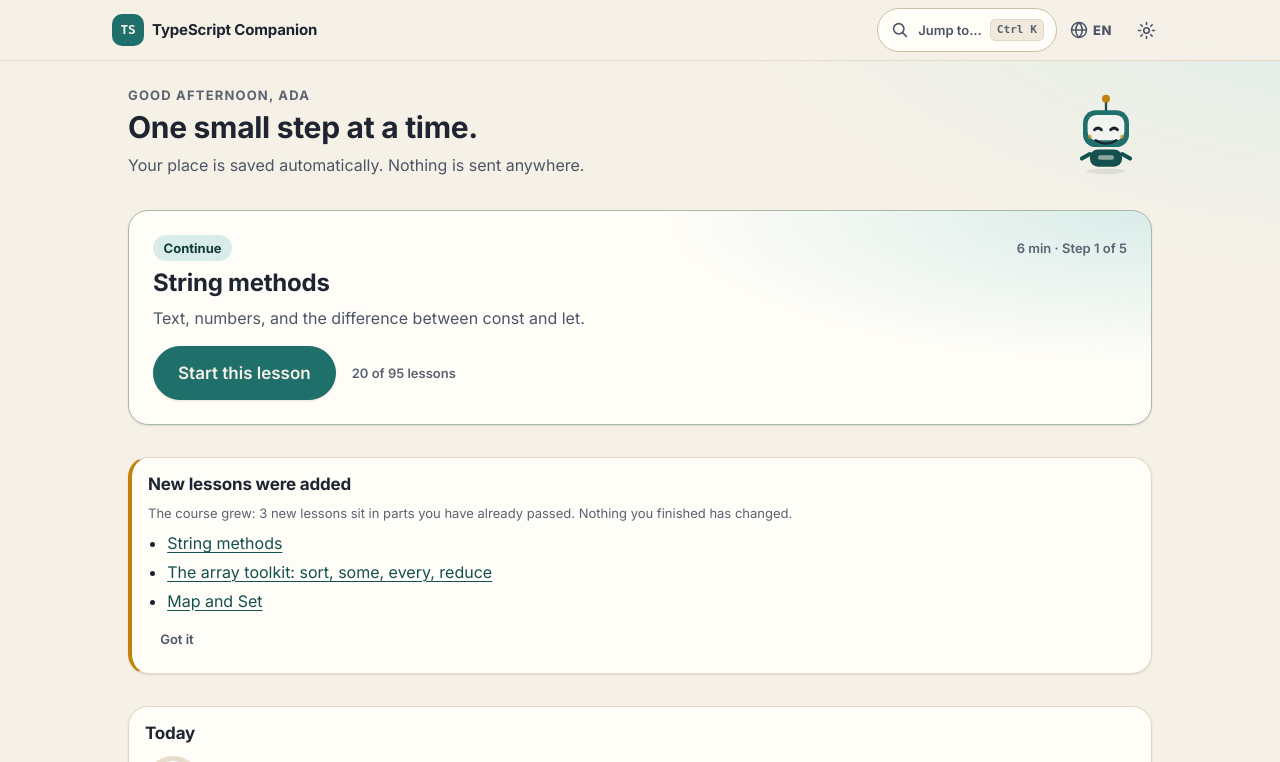
lessons added to a course the learner already passed › Home says so once, with links, until dismissed
Click the button "Got it".
click(177, 639)  # box [148, 621, 206, 657]
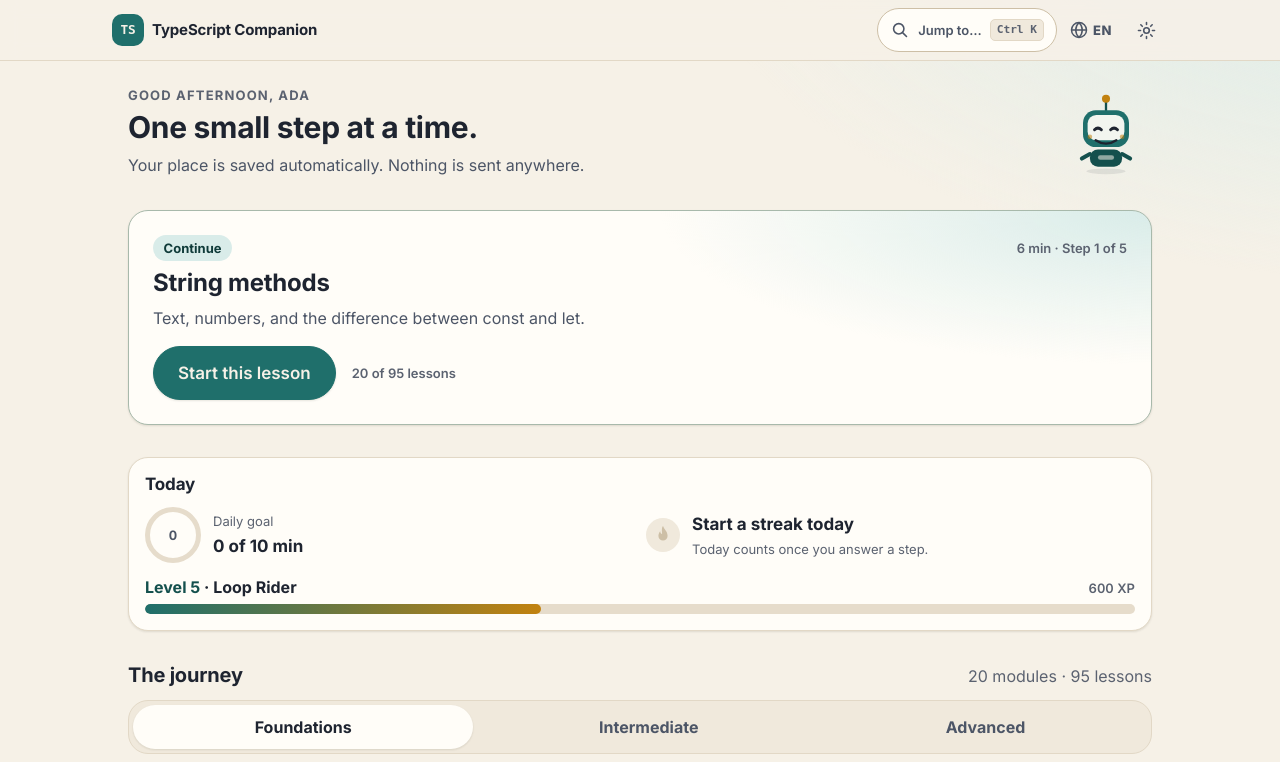
Expected: the heading "New lessons were added" is gone
